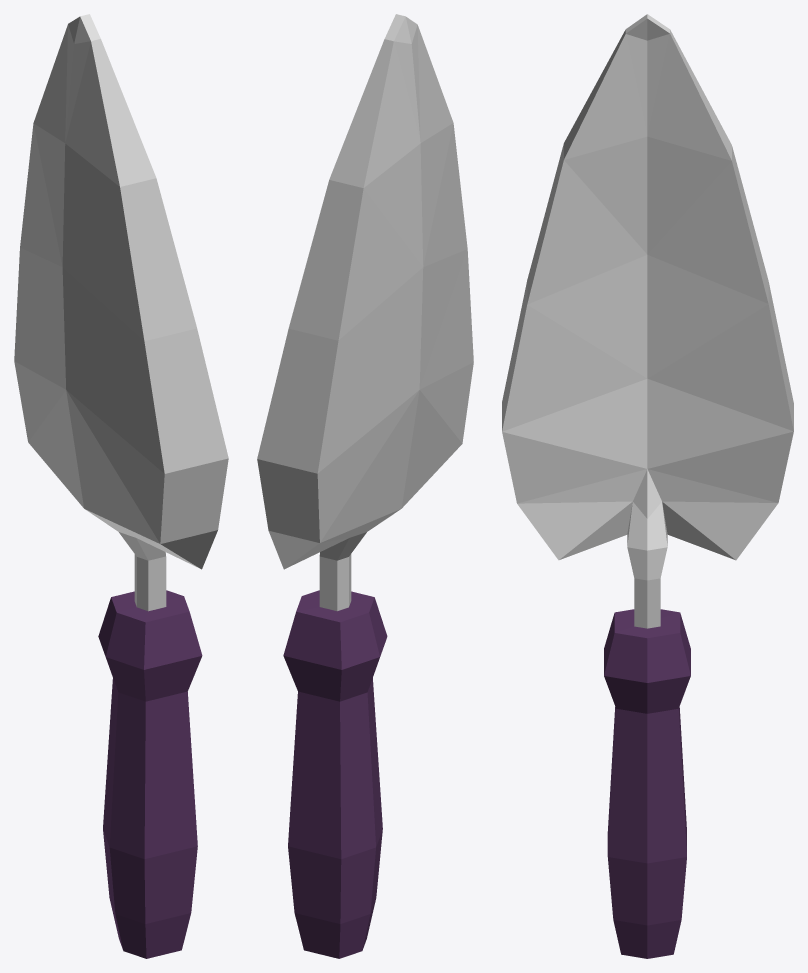
The model's file is trowel.fbx.
3 views of the same model, side by side, from view 1: azimuth 30°, elevation 25°; view 2: azimuth 150°, elevation 25°; view 3: azimuth 270°, elevation 25° (orthographic). The views are drawn at different scales.
Visible parts, largest first — view 1: Cube; view 2: Cube; view 3: Cube.
Boxes of the visible parts, x1=… form: Cube: x1=14, y1=14, x2=228, y2=958; Cube: x1=257, y1=14, x2=473, y2=958; Cube: x1=502, y1=14, x2=793, y2=958.
Bounding box in the file's own units: 942 × 6424 × 1889.
